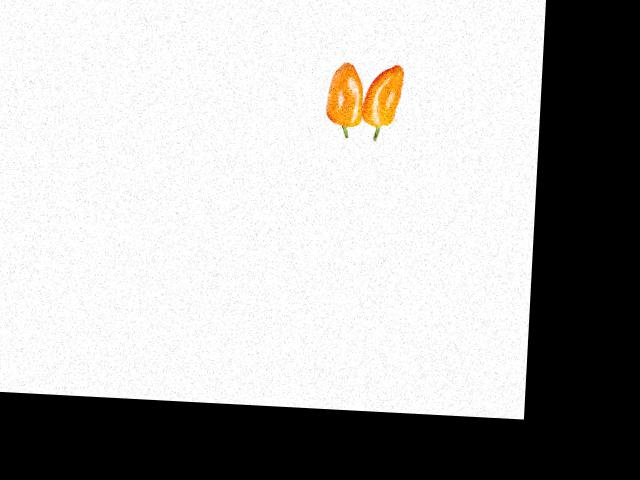bell_pepper: (316, 45, 367, 140)
